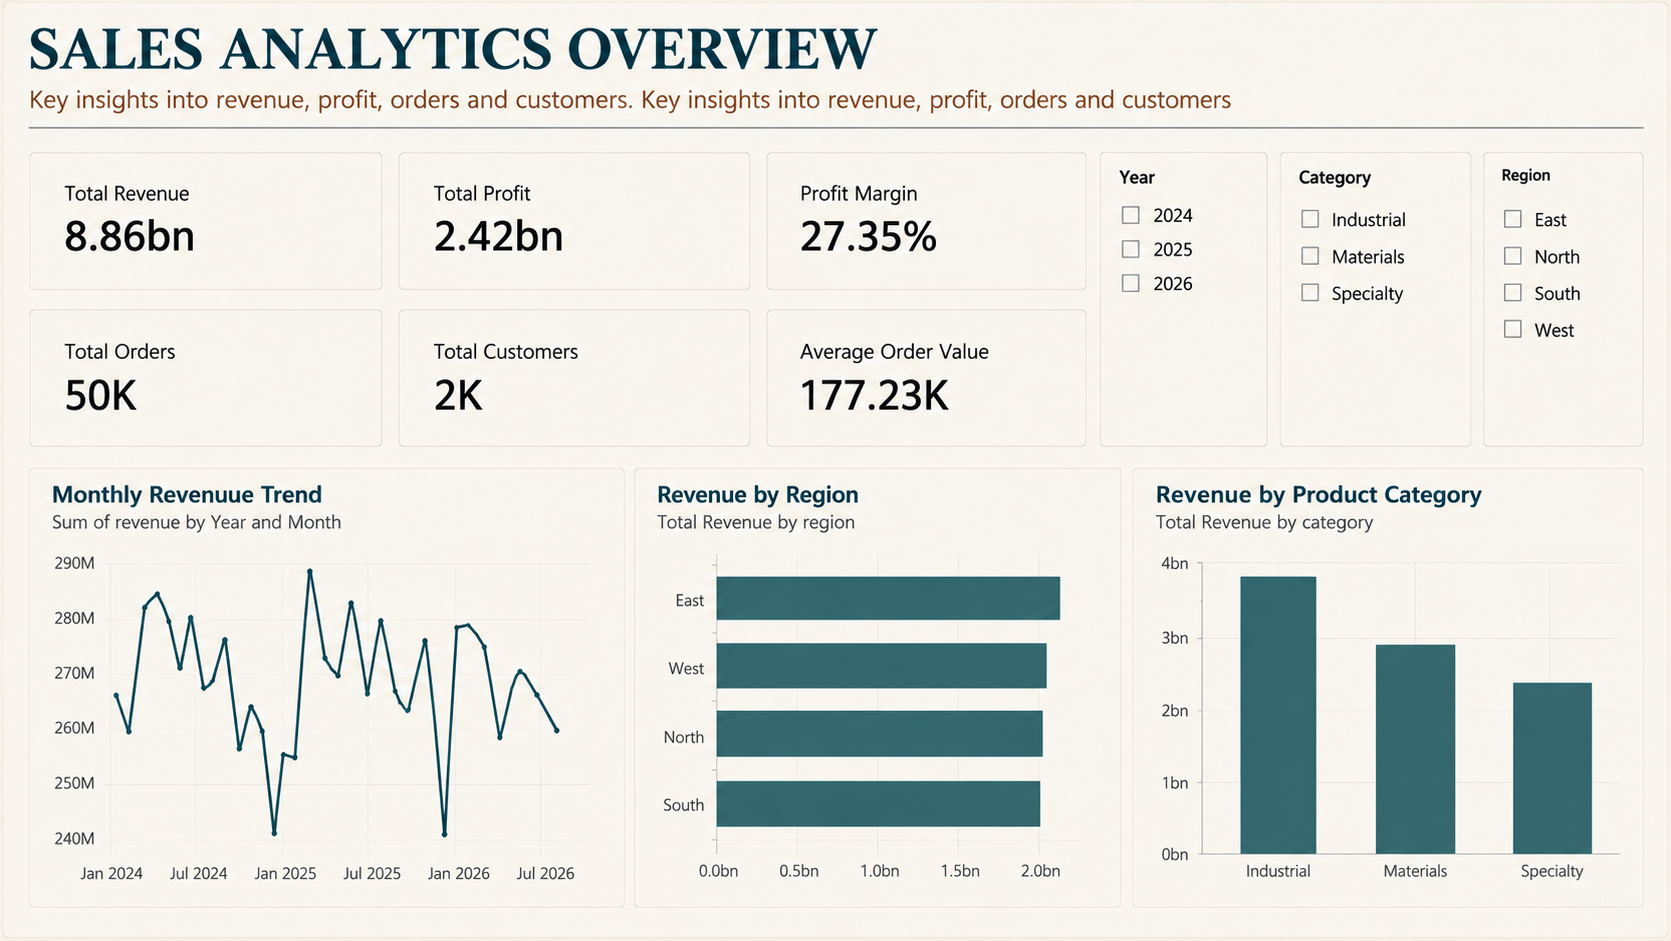

What the dashboard file says about the page in this screenshot:
{"tool":"powerbi","page":{"name":"Page 1","canvas":[1920,1080],"ordinal":0},"visuals":[{"type":"shape","box":[0,0,1920,88],"z":0},{"type":"cardVisual","fields":{"Data":["public dim_customer.Total Revenue"]},"box":[0,88,474,202],"z":1000},{"type":"cardVisual","fields":{"Data":["public dim_customer.Total Profit"]},"box":[474,88,438,202],"z":2000},{"type":"cardVisual","fields":{"Data":["public dim_customer.Profit Margin"]},"box":[912,88,414,202],"z":3000},{"type":"cardVisual","fields":{"Data":["public dim_customer.Total Orders"]},"box":[0,290,474,210],"z":4000},{"type":"cardVisual","fields":{"Data":["public dim_customer.Total Customers"]},"box":[474,288,438,212],"z":5000},{"type":"cardVisual","fields":{"Data":["public dim_customer.Average Order Value"]},"box":[912,288,414,212],"z":6000},{"type":"lineChart","title":"Monthly Revenue Trend","fields":{"Category":["public dim_date.full_date.Variation.Date Hierarchy.Year","public dim_date.full_date.Variation.Date Hierarchy.Month"],"Y":["Sum(public fact_sales.revenue)"]},"box":[0,500,626,580],"z":7000},{"type":"clusteredBarChart","title":"Revenue by Region","fields":{"Category":["public dim_customer.region"],"Y":["public dim_customer.Total Revenue"]},"box":[626,500,656,580],"z":8000},{"type":"clusteredColumnChart","title":"Revenue by Product Category","fields":{"Category":["public dim_product.category"],"Y":["public dim_customer.Total Revenue"]},"box":[1279.6,500,640,580],"z":9000},{"type":"slicer","fields":{"Values":["public dim_date.year"]},"box":[1326.5,87.8,204.1,412.2],"z":10000},{"type":"slicer","fields":{"Values":["public dim_customer.region"]},"box":[1722.4,87.8,198,412.2],"z":11000},{"type":"slicer","fields":{"Values":["public dim_product.category"]},"box":[1530.6,87.8,191.8,412.2],"z":12000},{"type":"textbox","box":[0,0,1920,87.3],"z":13000}]}

Visuals, with their boxes in screenshot pixels (x1, y1, x2, y2), scaled from the page's 1920x1080 canvas onto the 1671x941 screenshot:
shape: l=0, t=0, r=1670, b=77
cardVisual - public dim_customer.Total Revenue: l=0, t=77, r=413, b=253
cardVisual - public dim_customer.Total Profit: l=413, t=77, r=794, b=253
cardVisual - public dim_customer.Profit Margin: l=794, t=77, r=1154, b=253
cardVisual - public dim_customer.Total Orders: l=0, t=253, r=413, b=436
cardVisual - public dim_customer.Total Customers: l=413, t=251, r=794, b=436
cardVisual - public dim_customer.Average Order Value: l=794, t=251, r=1154, b=436
"Monthly Revenue Trend" lineChart: l=0, t=436, r=545, b=940
"Revenue by Region" clusteredBarChart: l=545, t=436, r=1116, b=940
"Revenue by Product Category" clusteredColumnChart: l=1114, t=436, r=1670, b=940
slicer - public dim_date.year: l=1154, t=76, r=1332, b=436
slicer - public dim_customer.region: l=1499, t=76, r=1670, b=436
slicer - public dim_product.category: l=1332, t=76, r=1499, b=436
textbox: l=0, t=0, r=1670, b=76
